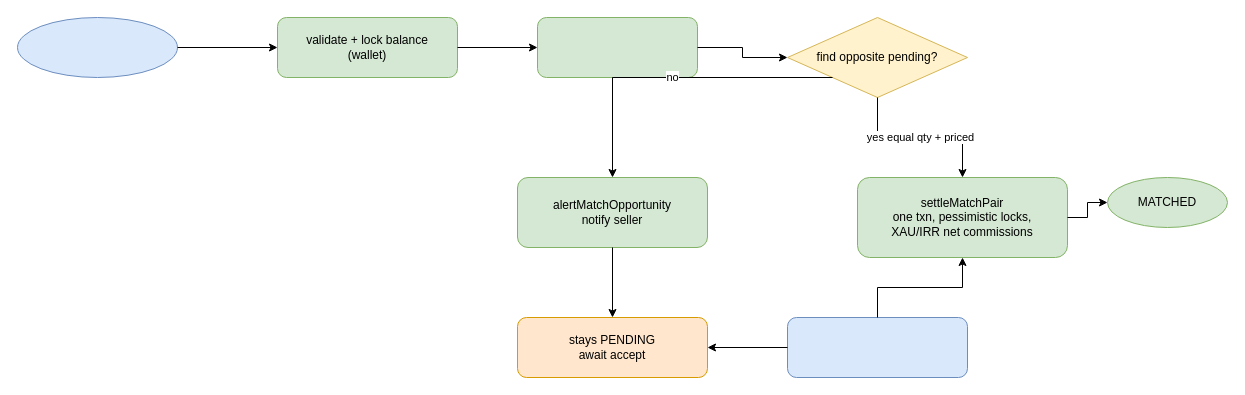
The diagram is 1245 pixels wide and 395 high, and some of its shapes have lost their labels. The centre of each missing label's shape, as x and y in pixels:
create PENDING: the point at 617,47
POST /quote-requests: the point at 97,47
POST /{id}/match seller approves: the point at 877,347
